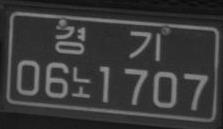0: (152, 70, 177, 108), (16, 59, 40, 96)
1: (94, 65, 115, 103)
6: (44, 60, 69, 99)
7: (182, 72, 209, 111), (123, 67, 148, 106)
경기_D: (54, 23, 161, 63)
노: (71, 65, 90, 98)
